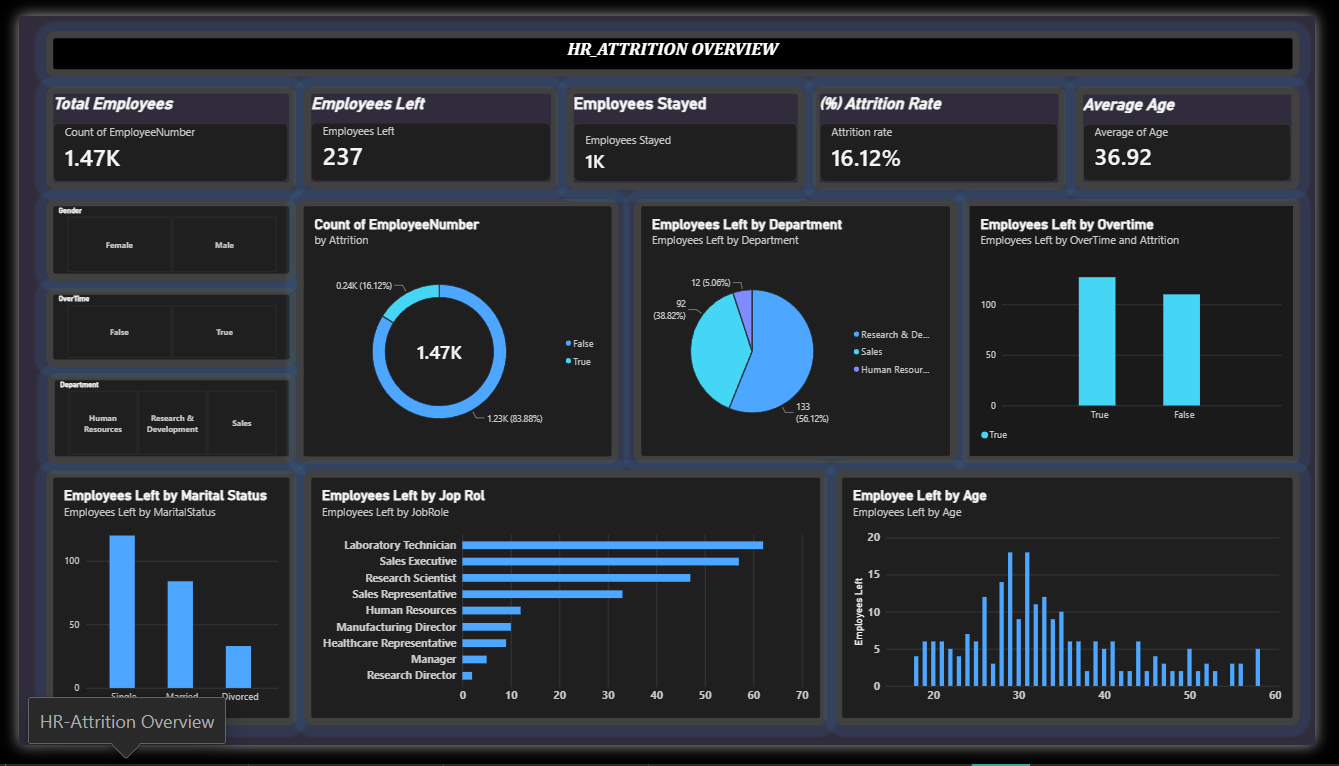

The dashboard page shown, as its layout file describes it:
{"tool":"powerbi","page":{"name":"HR-Attrition Overview","canvas":[1920,1080],"ordinal":0},"visuals":[{"type":"cardVisual","title":"Total Employees","fields":{"Data":["Count(hr_data.EmployeeNumber)"]},"box":[40,105.5,370.9,152.7],"z":0},{"type":"columnChart","title":"Employees Left by Marital Status","fields":{"Category":["hr_data.MaritalStatus"],"Y":["hr_data.Employees Left"]},"box":[40,672.5,371.2,377.5],"z":1000},{"type":"cardVisual","title":"Employees Left","fields":{"Data":["hr_data.Employees Left"]},"box":[422.7,105.5,376.4,151.8],"z":2000},{"type":"cardVisual","title":"(%) Attrition Rate","fields":{"Data":["hr_data.Attrition rate"]},"box":[1175,105,375,153.3],"z":3000},{"type":"slicer","fields":{"Values":["hr_data.Department"]},"box":[43,529,368,134],"z":4000},{"type":"slicer","fields":{"Values":["hr_data.OverTime"]},"box":[40,403,371,117],"z":5000},{"type":"slicer","fields":{"Values":["hr_data.Gender"]},"box":[40,270,371,121],"z":6000},{"type":"clusteredColumnChart","title":"Employees Left by Overtime","fields":{"Category":["hr_data.OverTime"],"Series":["hr_data.Attrition"],"Y":["hr_data.Employees Left"]},"box":[1397.5,271.2,500,391.2],"z":7000},{"type":"donutChart","fields":{"Category":["hr_data.Attrition"],"Y":["CountNonNull(hr_data.EmployeeNumber)"]},"box":[411.7,271.7,477,392],"z":8000},{"type":"pieChart","title":"Employees Left by Department","fields":{"Category":["hr_data.Department"],"Y":["hr_data.Employees Left"]},"box":[910,271.2,478.8,391.2],"z":9000},{"type":"clusteredBarChart","title":"Employees Left by Jop Rol","fields":{"Category":["hr_data.JobRole"],"Y":["hr_data.Employees Left"]},"box":[422.5,672.5,775,377.5],"z":10000},{"type":"cardVisual","title":"Average Age","fields":{"Data":["Avg(hr_data.Age)"]},"box":[1565,105,332.5,152.5],"z":11000},{"type":"columnChart","title":"Employee Left by Age","fields":{"Category":["hr_data.Age"],"Y":["hr_data.Employees Left"]},"box":[1208.8,672.5,688.8,377.5],"z":12000},{"type":"textbox","box":[40,22.5,1857.5,67.5],"z":13000},{"type":"cardVisual","title":"Employees Stayed","fields":{"Data":["hr_data.Employees Stayed"]},"box":[810,105,353.3,153.3],"z":14000}]}

Visuals, with their boxes on the page's 1920x1080 design canvas (x1, y1, x2, y2). These are canvas units, not pixel positions in the 1339x766 screenshot, which may show the page scaled, cropped or inside an application window:
"Total Employees" cardVisual: x1=40, y1=106, x2=411, y2=258
"Employees Left by Marital Status" columnChart: x1=40, y1=672, x2=411, y2=1050
"Employees Left" cardVisual: x1=423, y1=106, x2=799, y2=257
"(%) Attrition Rate" cardVisual: x1=1175, y1=105, x2=1550, y2=258
slicer - hr_data.Department: x1=43, y1=529, x2=411, y2=663
slicer - hr_data.OverTime: x1=40, y1=403, x2=411, y2=520
slicer - hr_data.Gender: x1=40, y1=270, x2=411, y2=391
"Employees Left by Overtime" clusteredColumnChart: x1=1398, y1=271, x2=1898, y2=662
donutChart - hr_data.Attrition x CountNonNull(hr_data.EmployeeNumber): x1=412, y1=272, x2=889, y2=664
"Employees Left by Department" pieChart: x1=910, y1=271, x2=1389, y2=662
"Employees Left by Jop Rol" clusteredBarChart: x1=422, y1=672, x2=1198, y2=1050
"Average Age" cardVisual: x1=1565, y1=105, x2=1898, y2=258
"Employee Left by Age" columnChart: x1=1209, y1=672, x2=1898, y2=1050
textbox: x1=40, y1=22, x2=1898, y2=90
"Employees Stayed" cardVisual: x1=810, y1=105, x2=1163, y2=258
